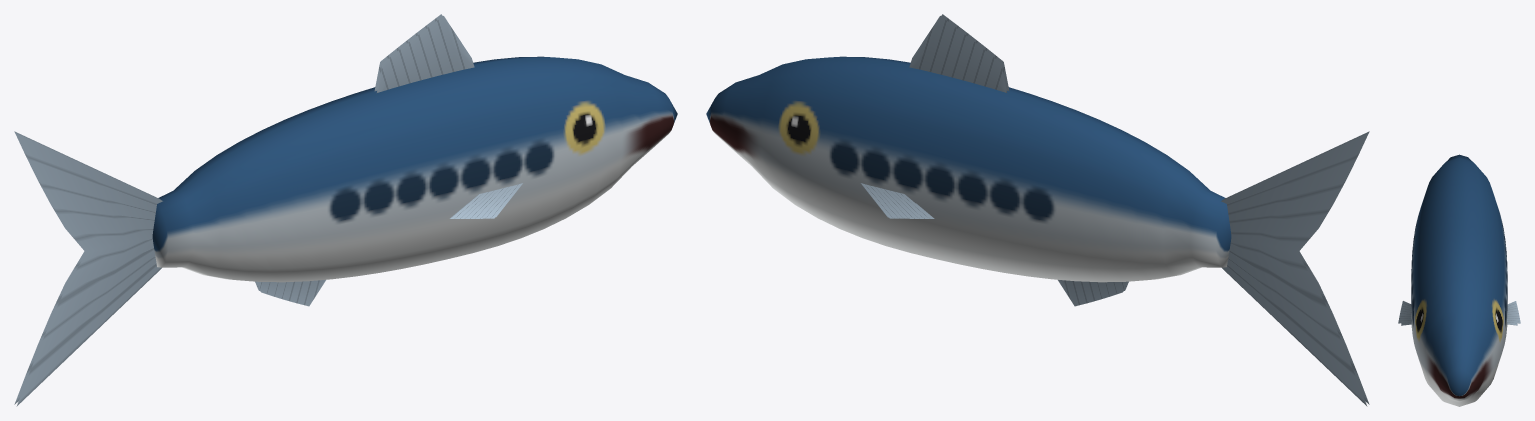
The model's file is Fish_02_Sardine.fbx.
3 views of the same model, side by side, from view 1: azimuth 30°, elevation 25°; view 2: azimuth 150°, elevation 25°; view 3: azimuth 270°, elevation 25° (orthographic). The views are drawn at different scales.
Parts seen in each view (by area): view 1: Fish_02_Sardine; view 2: Fish_02_Sardine; view 3: Fish_02_Sardine.
Boxes of the visible parts, x1,y1,x2,y2 form: Fish_02_Sardine: (14,14,677,406); Fish_02_Sardine: (706,14,1369,406); Fish_02_Sardine: (1398,154,1520,406).
Size of the model in its own units: 1.18 by 0.4876 by 0.233.
